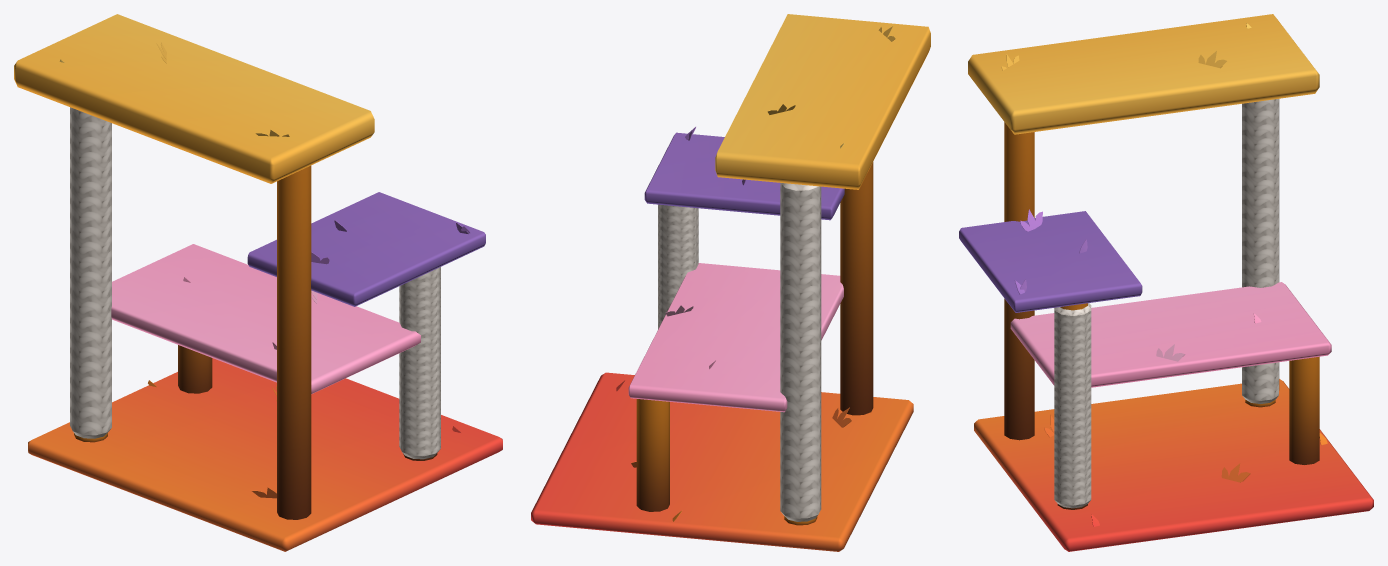
The model's file is Cat_Tower.fbx.
3 renders of one model, left to right at view 1: azimuth 30°, elevation 25°; view 2: azimuth 150°, elevation 25°; view 3: azimuth 270°, elevation 25°, orthographic. The views are drawn at different scales.
Visible parts, largest first — view 1: Cafe1_Cat_Tower_Cat_tower; view 2: Cafe1_Cat_Tower_Cat_tower; view 3: Cafe1_Cat_Tower_Cat_tower.
Part boxes in pixels (<box>): Cafe1_Cat_Tower_Cat_tower: <box>14,14,502,551</box>; Cafe1_Cat_Tower_Cat_tower: <box>531,14,930,551</box>; Cafe1_Cat_Tower_Cat_tower: <box>959,14,1373,551</box>.
Bounding box in the file's own units: 292 × 306 × 300.
